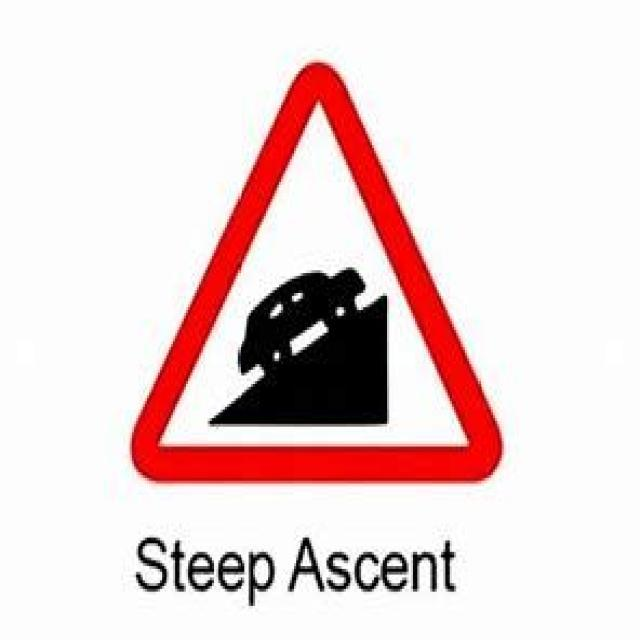steep ascent: (130, 61, 504, 489)
